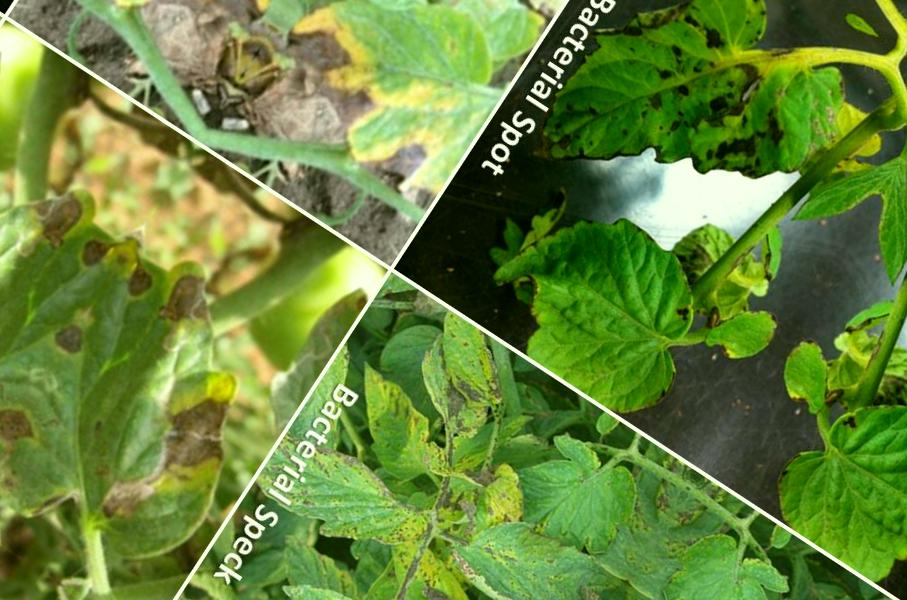Tomato Early blight leaf: (228, 0, 619, 215)
Tomato leaf bacterial spot: (507, 0, 872, 277), (444, 136, 744, 425), (251, 407, 467, 600), (423, 471, 634, 600), (156, 556, 344, 600), (286, 570, 561, 600), (267, 554, 404, 600)
